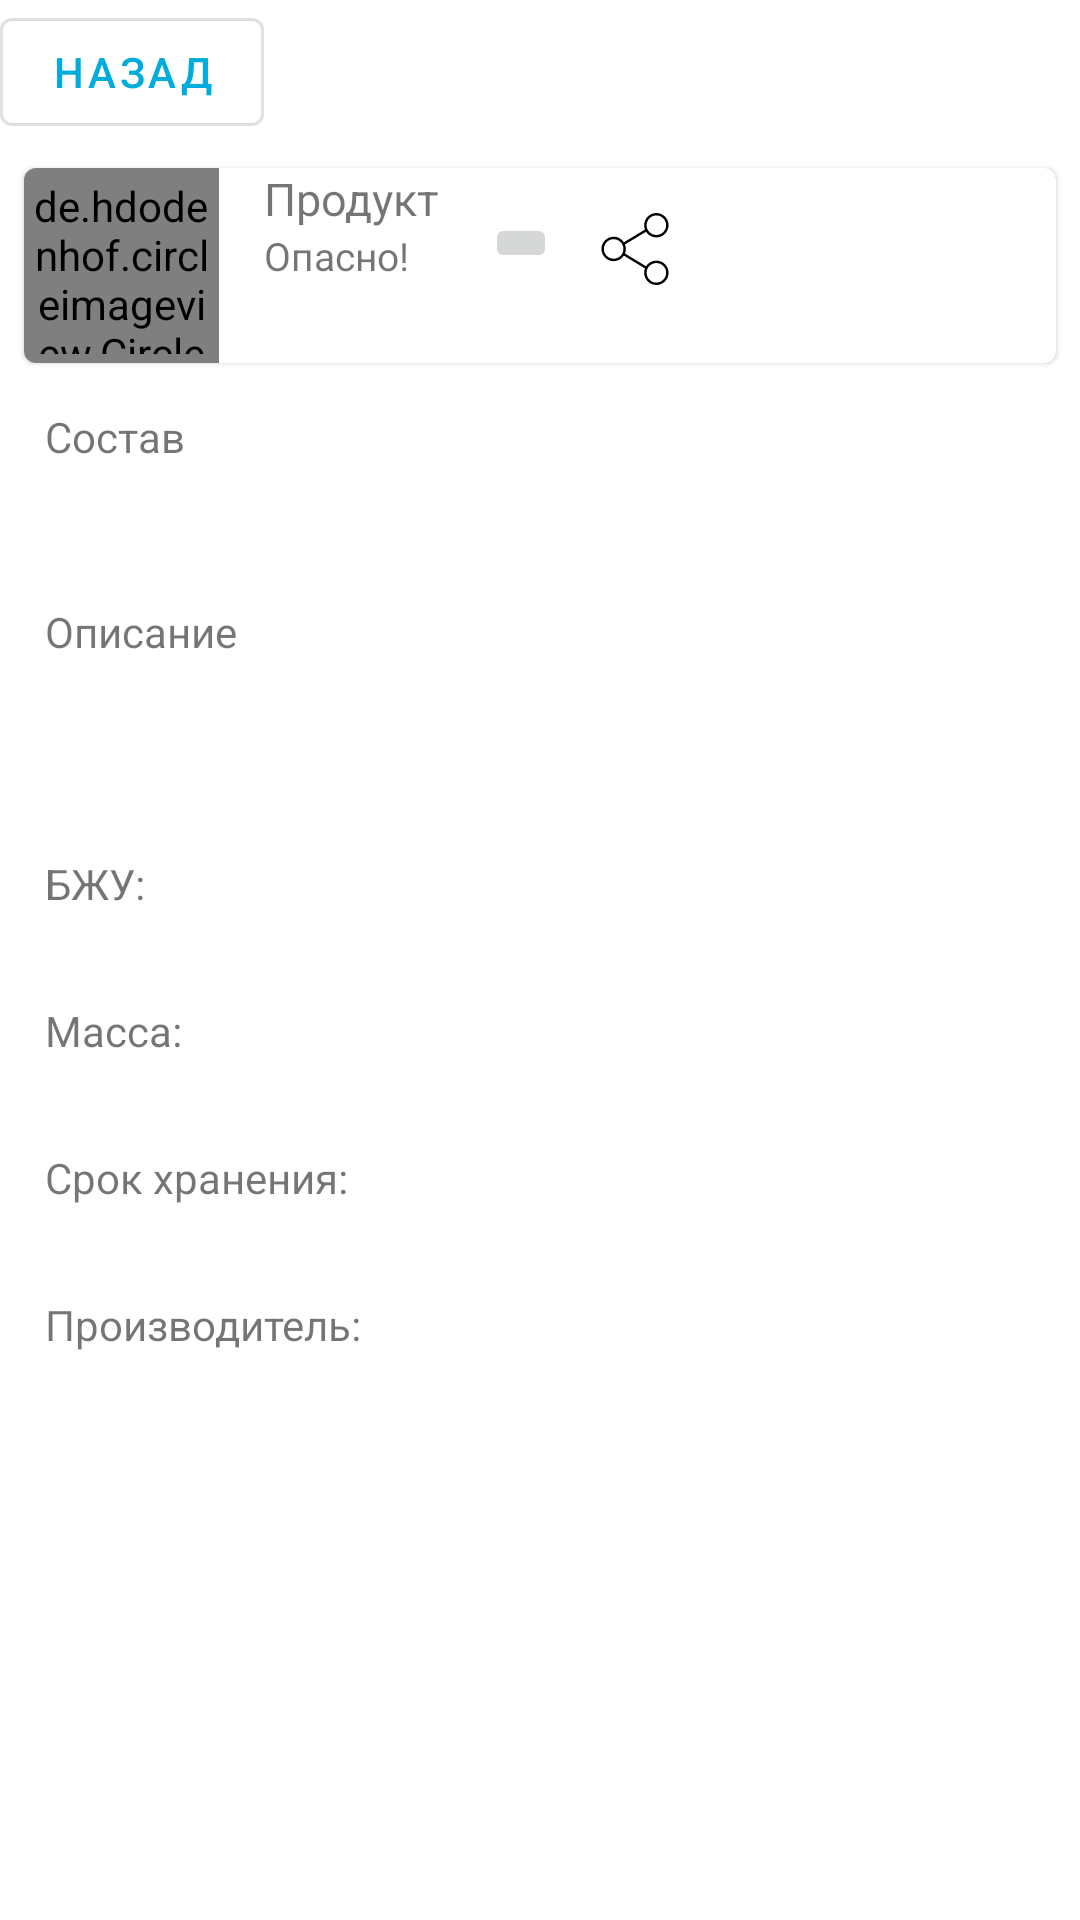

Icons on this 1080px x 1920px Android screen, each with its box as bbox=[x1, y1, x2, y2]:
share: bbox=[601, 213, 669, 285]
